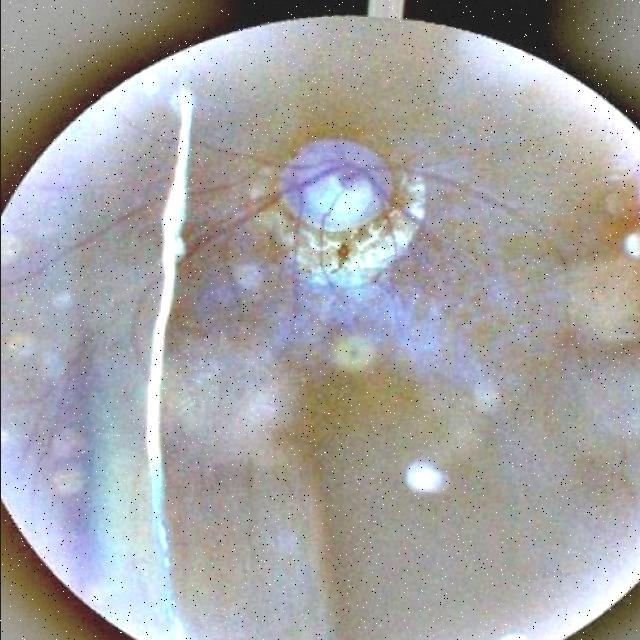Macula: (330, 335, 372, 373)
Nerves: (127, 198, 277, 348), (395, 165, 569, 269), (128, 117, 279, 168)
Optic Disk: (277, 135, 391, 233)
